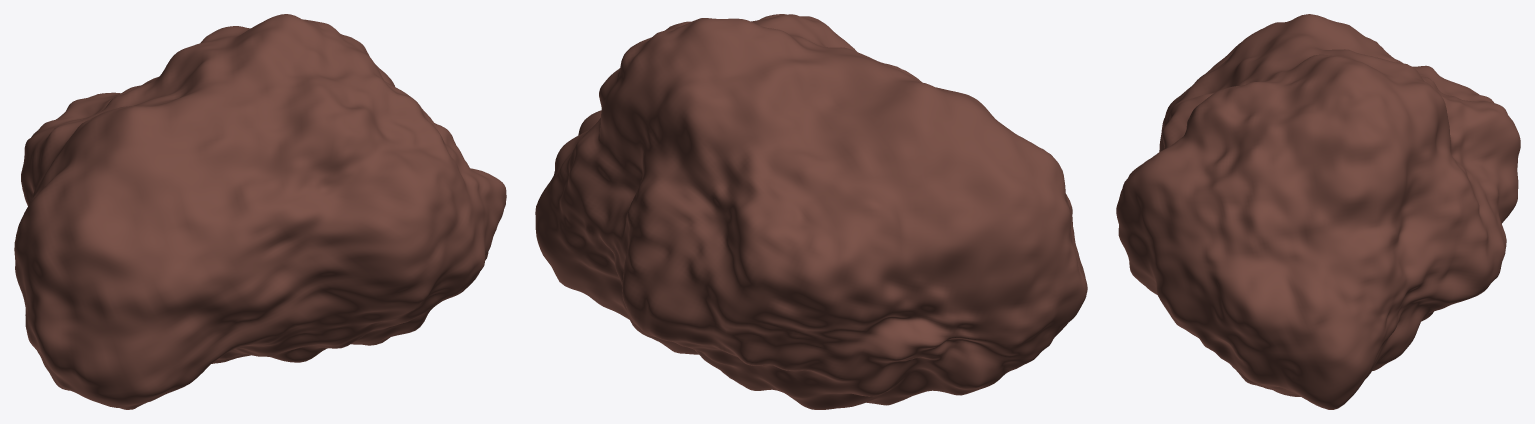
The model's file is meteor.glb.
3 renders of one model, left to right at view 1: azimuth 30°, elevation 25°; view 2: azimuth 150°, elevation 25°; view 3: azimuth 270°, elevation 25°, orthographic. The views are drawn at different scales.
Visible parts, largest first — view 1: Cube; view 2: Cube; view 3: Cube.
Part boxes in pixels (<box>): Cube: <box>14,14,506,409</box>; Cube: <box>535,14,1087,409</box>; Cube: <box>1116,14,1520,409</box>.
Bounding box in the file's own units: 232 × 154 × 180.
